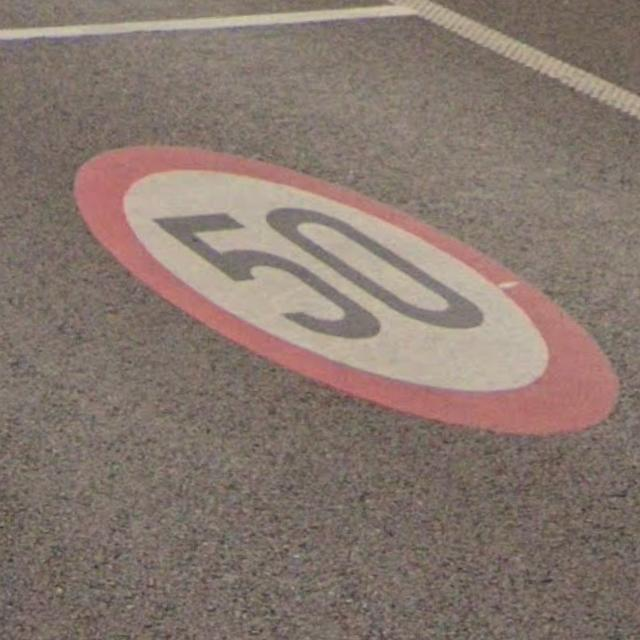forb_speed_over_50: (71, 139, 621, 441)
